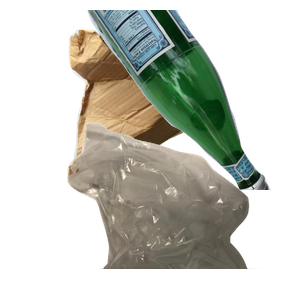cardboard: (66, 27, 242, 197)
glass: (75, 10, 300, 190)
plastic: (110, 164, 300, 300)
trash: (65, 120, 300, 300)
